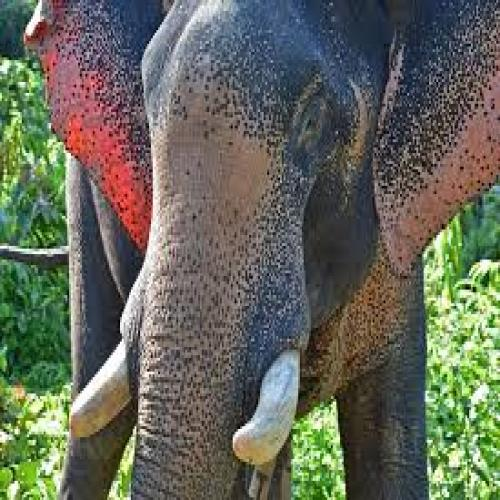asian_elephant-endangered: (23, 8, 490, 490)
